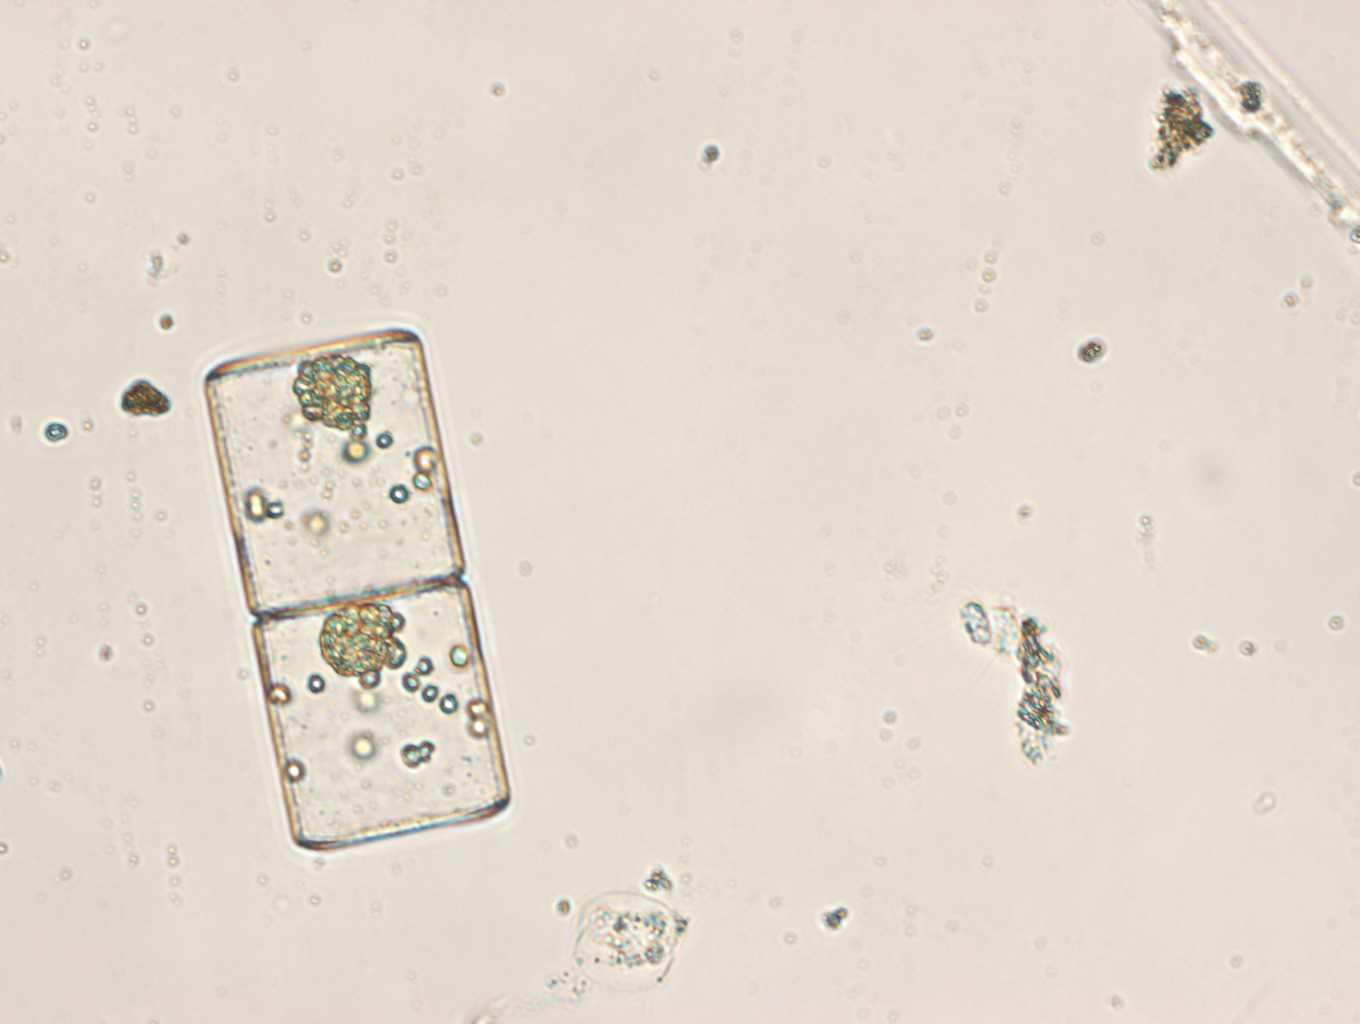guinardia flaccida: (201, 326, 512, 849)
